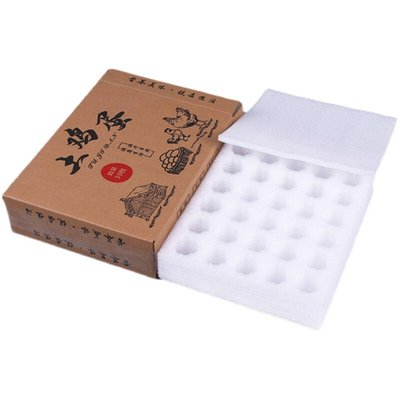5/可回收垃圾/泡沫: (157, 90, 397, 326), (3, 67, 244, 280)
